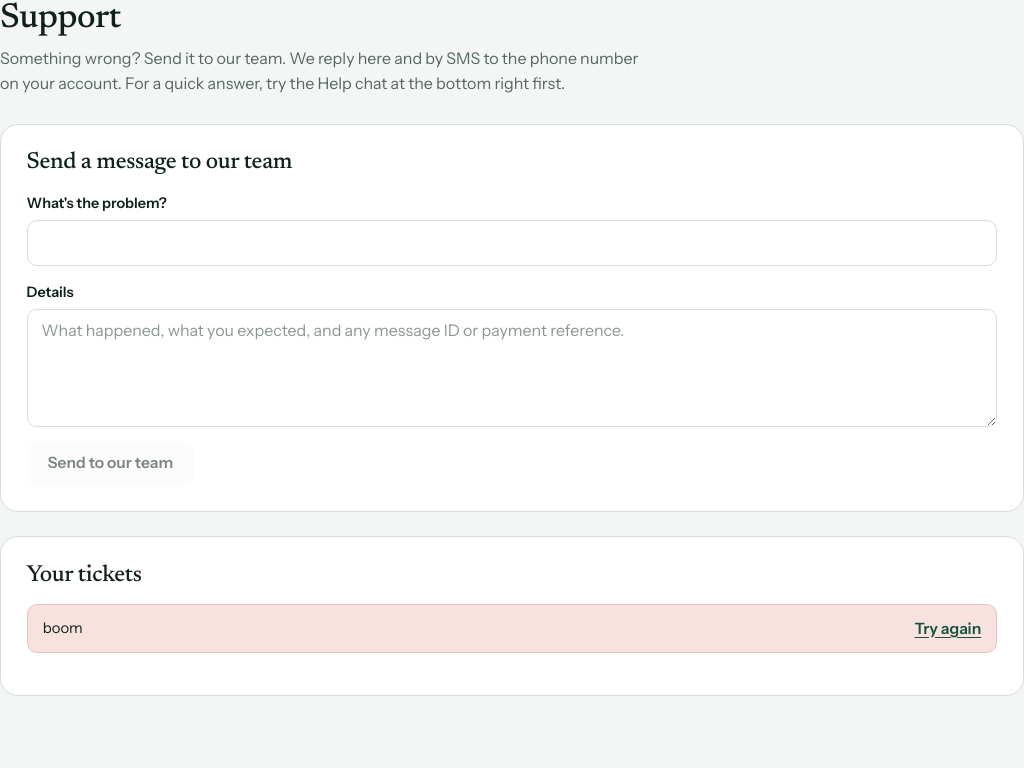
it: Support page › shows an error with a retry when the list can't load
Click the button "Try again" at (948,629), box [915,620,981,638]
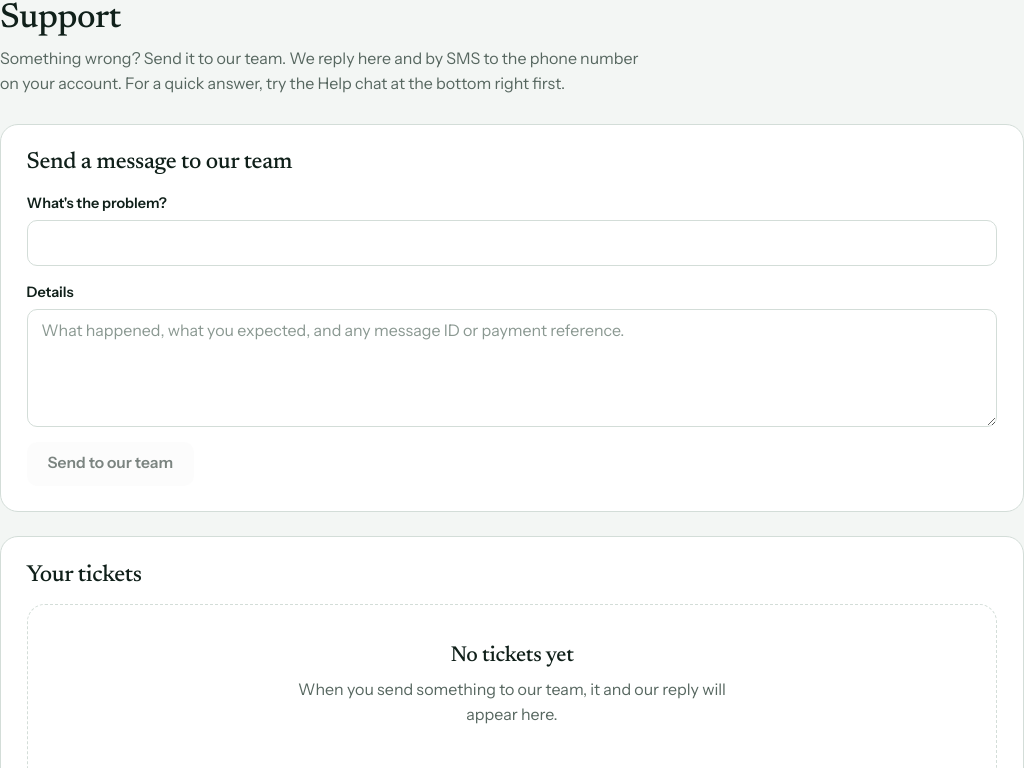
Now the heading "No tickets yet" is shown, box [450,646,574,668]
